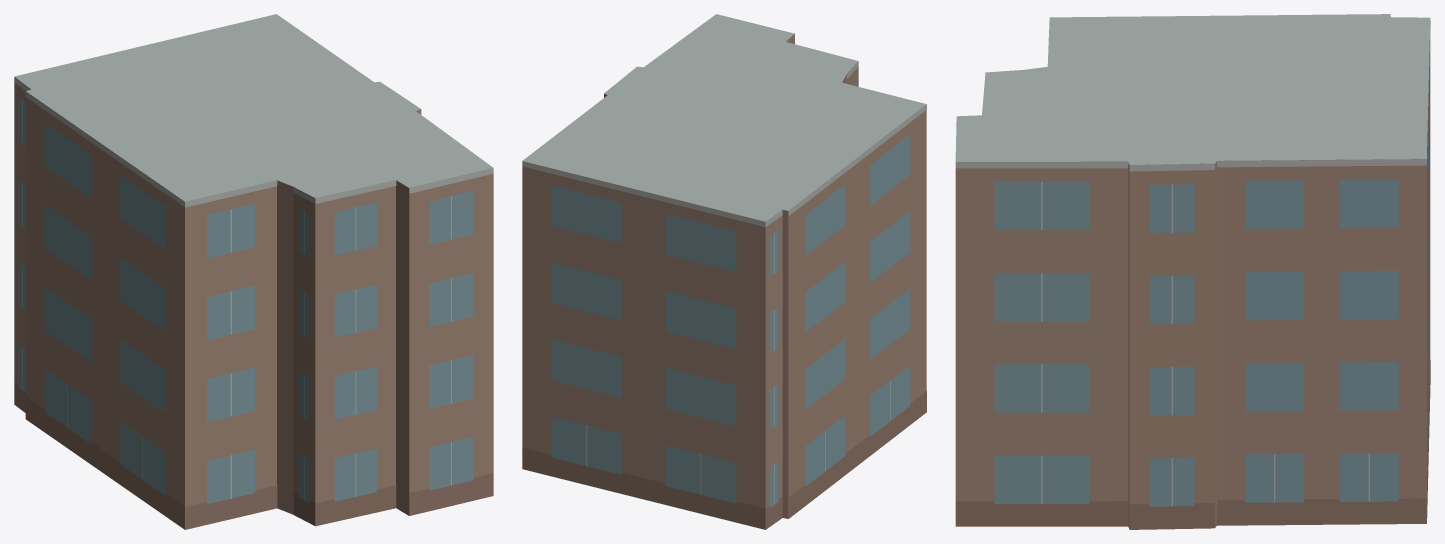
File: survey-upis-32520357.glb
3 views of the same model, side by side, from view 1: azimuth 30°, elevation 25°; view 2: azimuth 150°, elevation 25°; view 3: azimuth 270°, elevation 25° (orthographic). The views are drawn at different scales.
Visible parts, largest first — view 1: survey-upis-32520357.tmp; view 2: survey-upis-32520357.tmp; view 3: survey-upis-32520357.tmp.
Part boxes in pixels (x1,y1,x2,y2): survey-upis-32520357.tmp: (14,14,493,529); survey-upis-32520357.tmp: (522,14,926,529); survey-upis-32520357.tmp: (955,14,1430,529).
Size of the model in its own units: 12.18 by 13.7 by 16.17.
